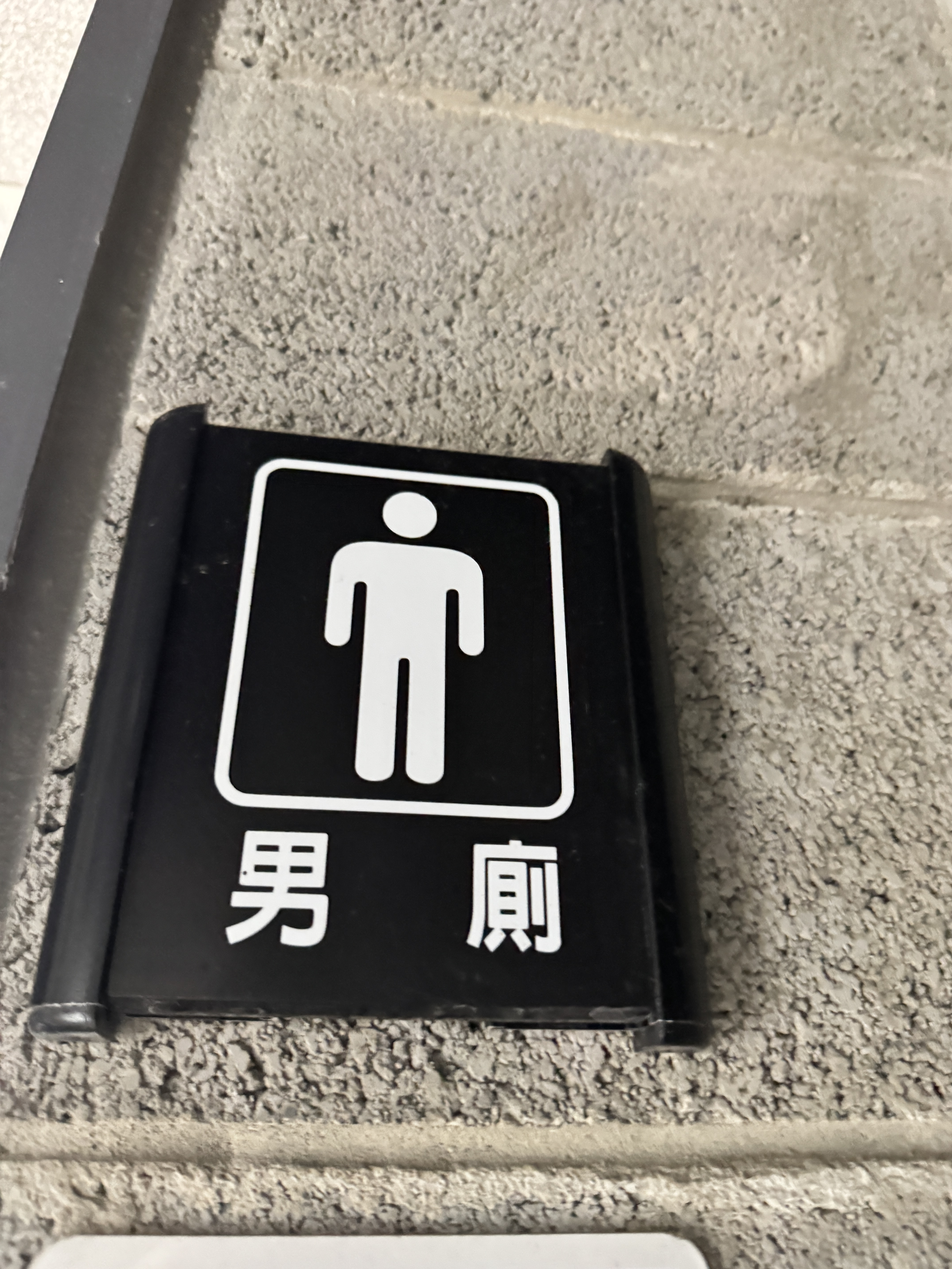toilet_sign: (24, 393, 724, 1051), (60, 392, 705, 1056)
